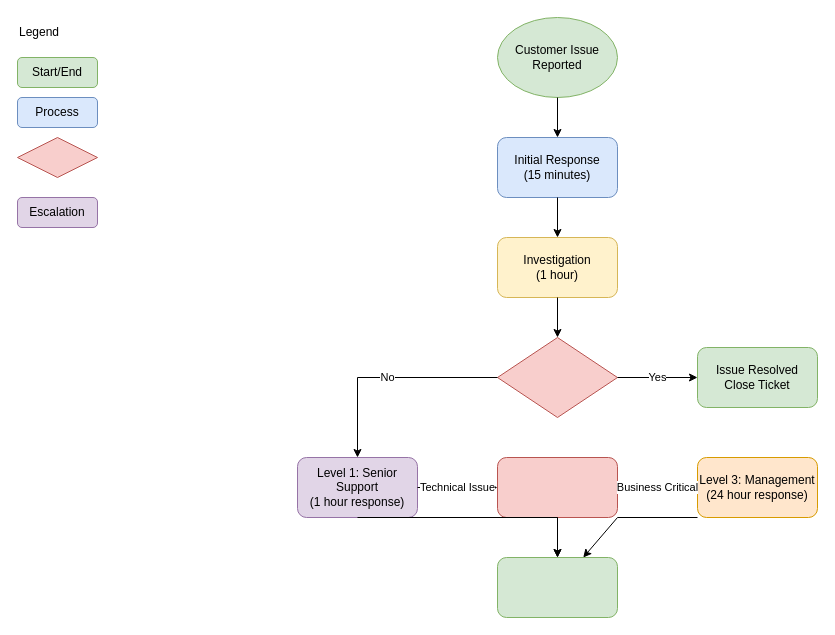
Some shapes in this 835 by 635 pixel diagram are drawn without their labels. The shapes that lost their labels are listed below. From the top down, each one's centre as x and y in pixels, then its label:
(x=57, y=157): Decision
(x=557, y=377): Issue Resolved?
(x=557, y=487): Level 2: Engineering (4 hour response)
(x=557, y=587): Final Resolution Close Ticket
